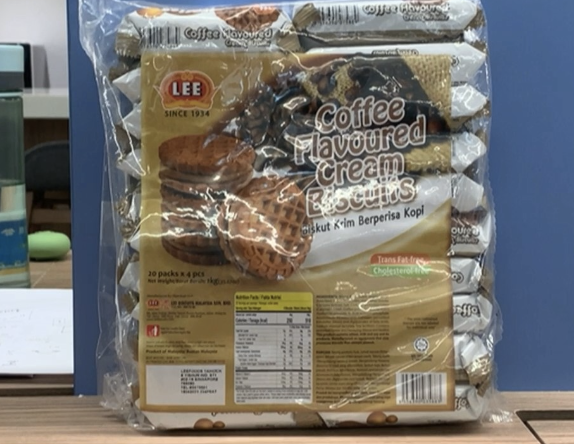cookies_1kg-1.99kg: (125, 11, 467, 412)
